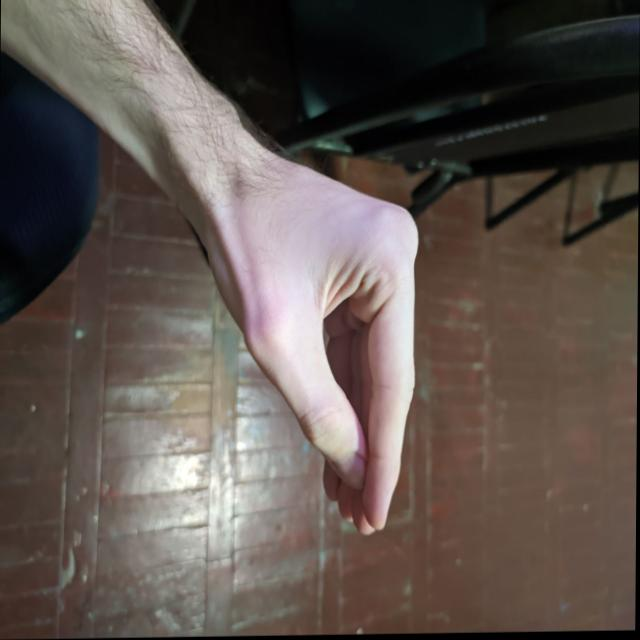zh: (200, 146, 439, 566)
